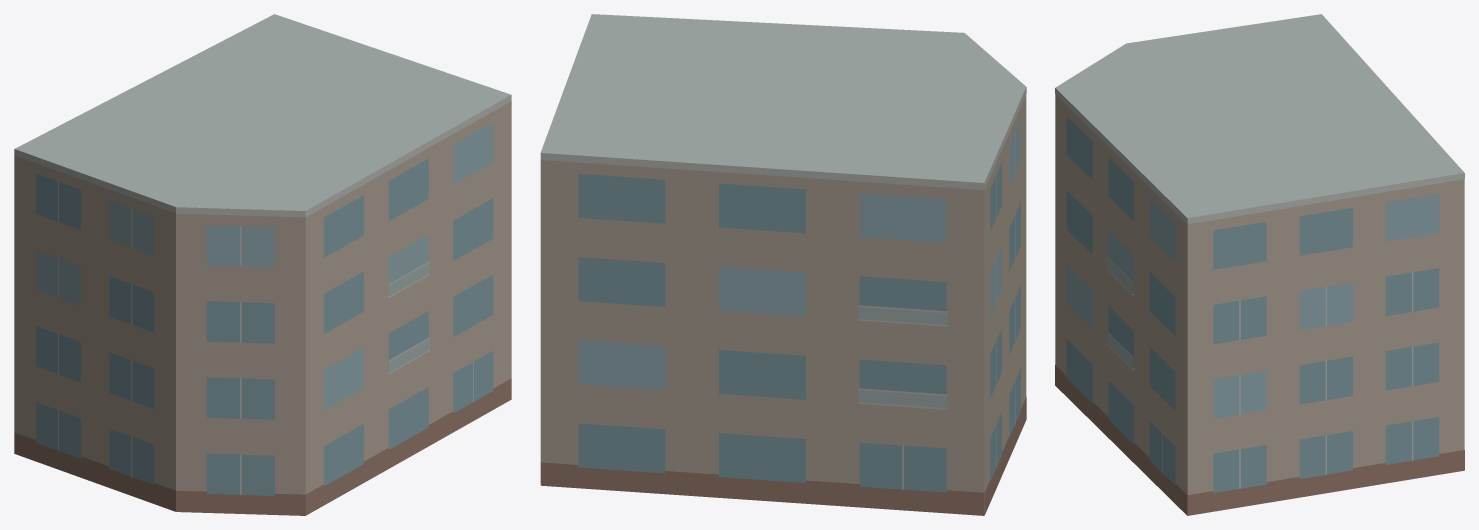
Rendered from survey-upis-32988314.glb.
3 views of the same model, side by side, from view 1: azimuth 30°, elevation 25°; view 2: azimuth 150°, elevation 25°; view 3: azimuth 270°, elevation 25° (orthographic). The views are drawn at different scales.
Parts seen in each view (by area): view 1: survey-upis-32988314.tmp; view 2: survey-upis-32988314.tmp; view 3: survey-upis-32988314.tmp.
Boxes of the visible parts, x1=… form: survey-upis-32988314.tmp: x1=14, y1=14, x2=511, y2=515; survey-upis-32988314.tmp: x1=540, y1=14, x2=1026, y2=515; survey-upis-32988314.tmp: x1=1055, y1=14, x2=1464, y2=515.
Bounding box in the file's own units: 17.07 × 11.6 × 14.48.
